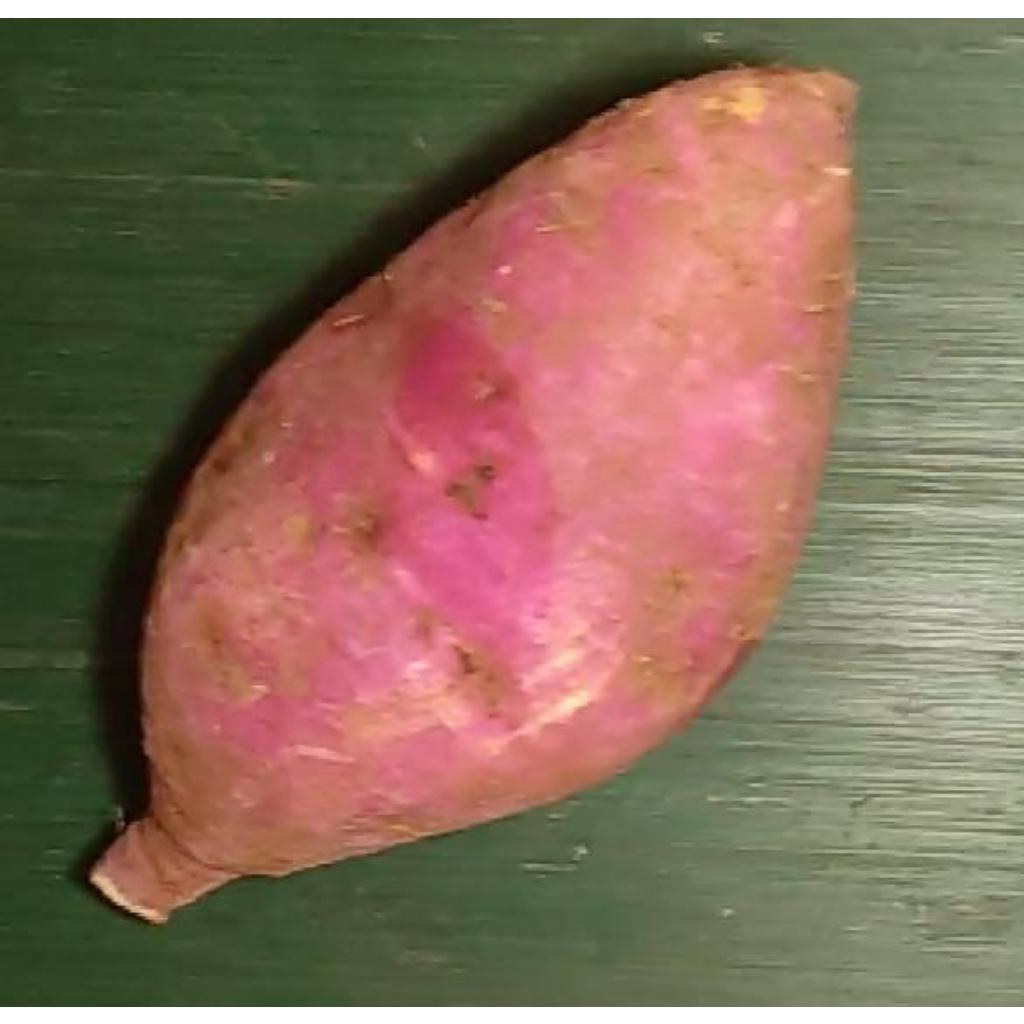Sweet Potato: (93, 62, 861, 926)
